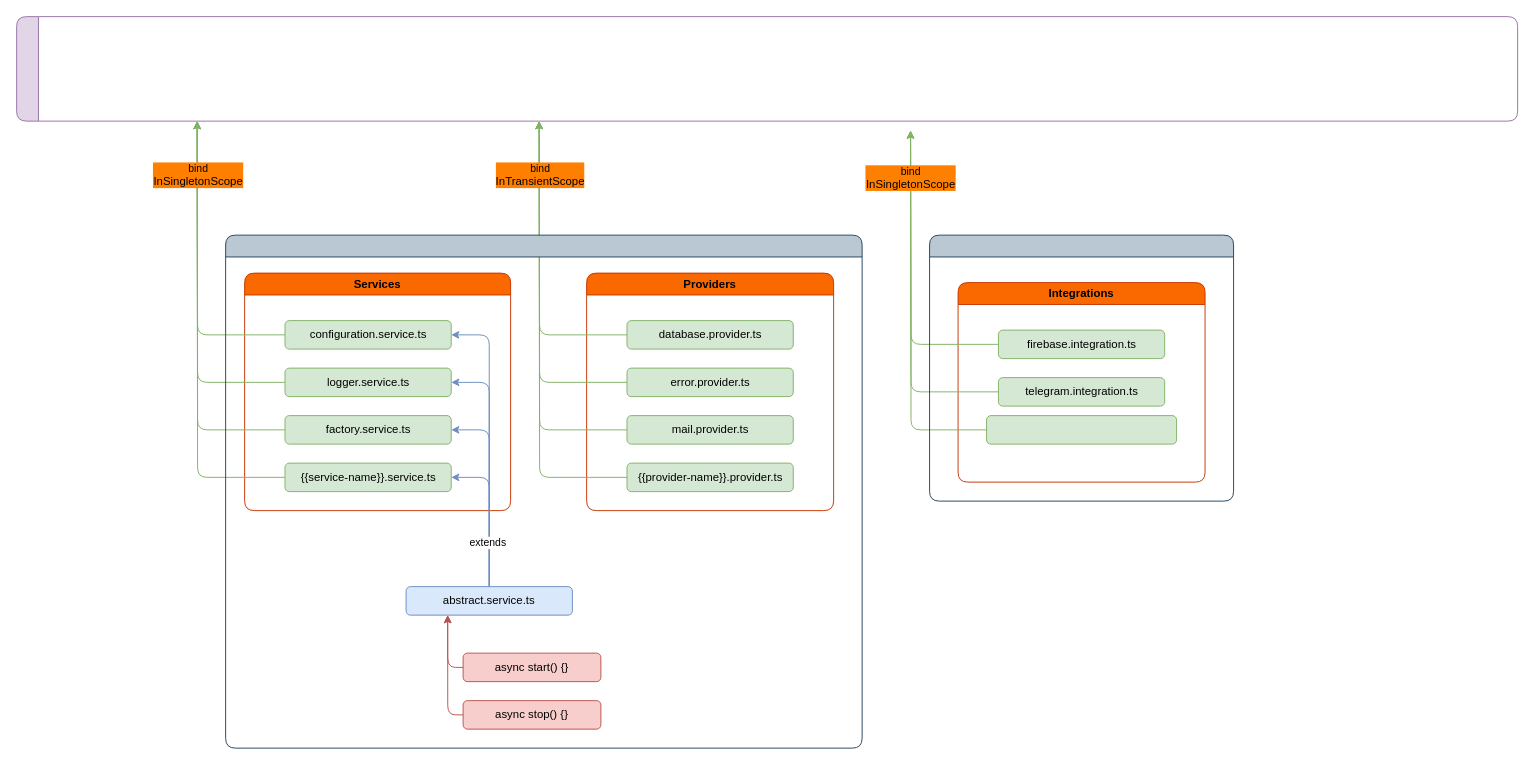
This 1534x765 diagram has some shape labels left out. Each missing label, with the centre of its shape:
Business core functionality: point (543, 491)
Integration functionality: point (1081, 367)
ioc.core.ts: point (767, 68)
{{integration-name}}.integration.ts: point (1081, 429)
